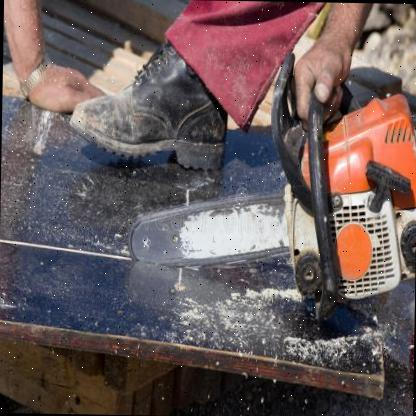bota: (63, 34, 232, 174)
